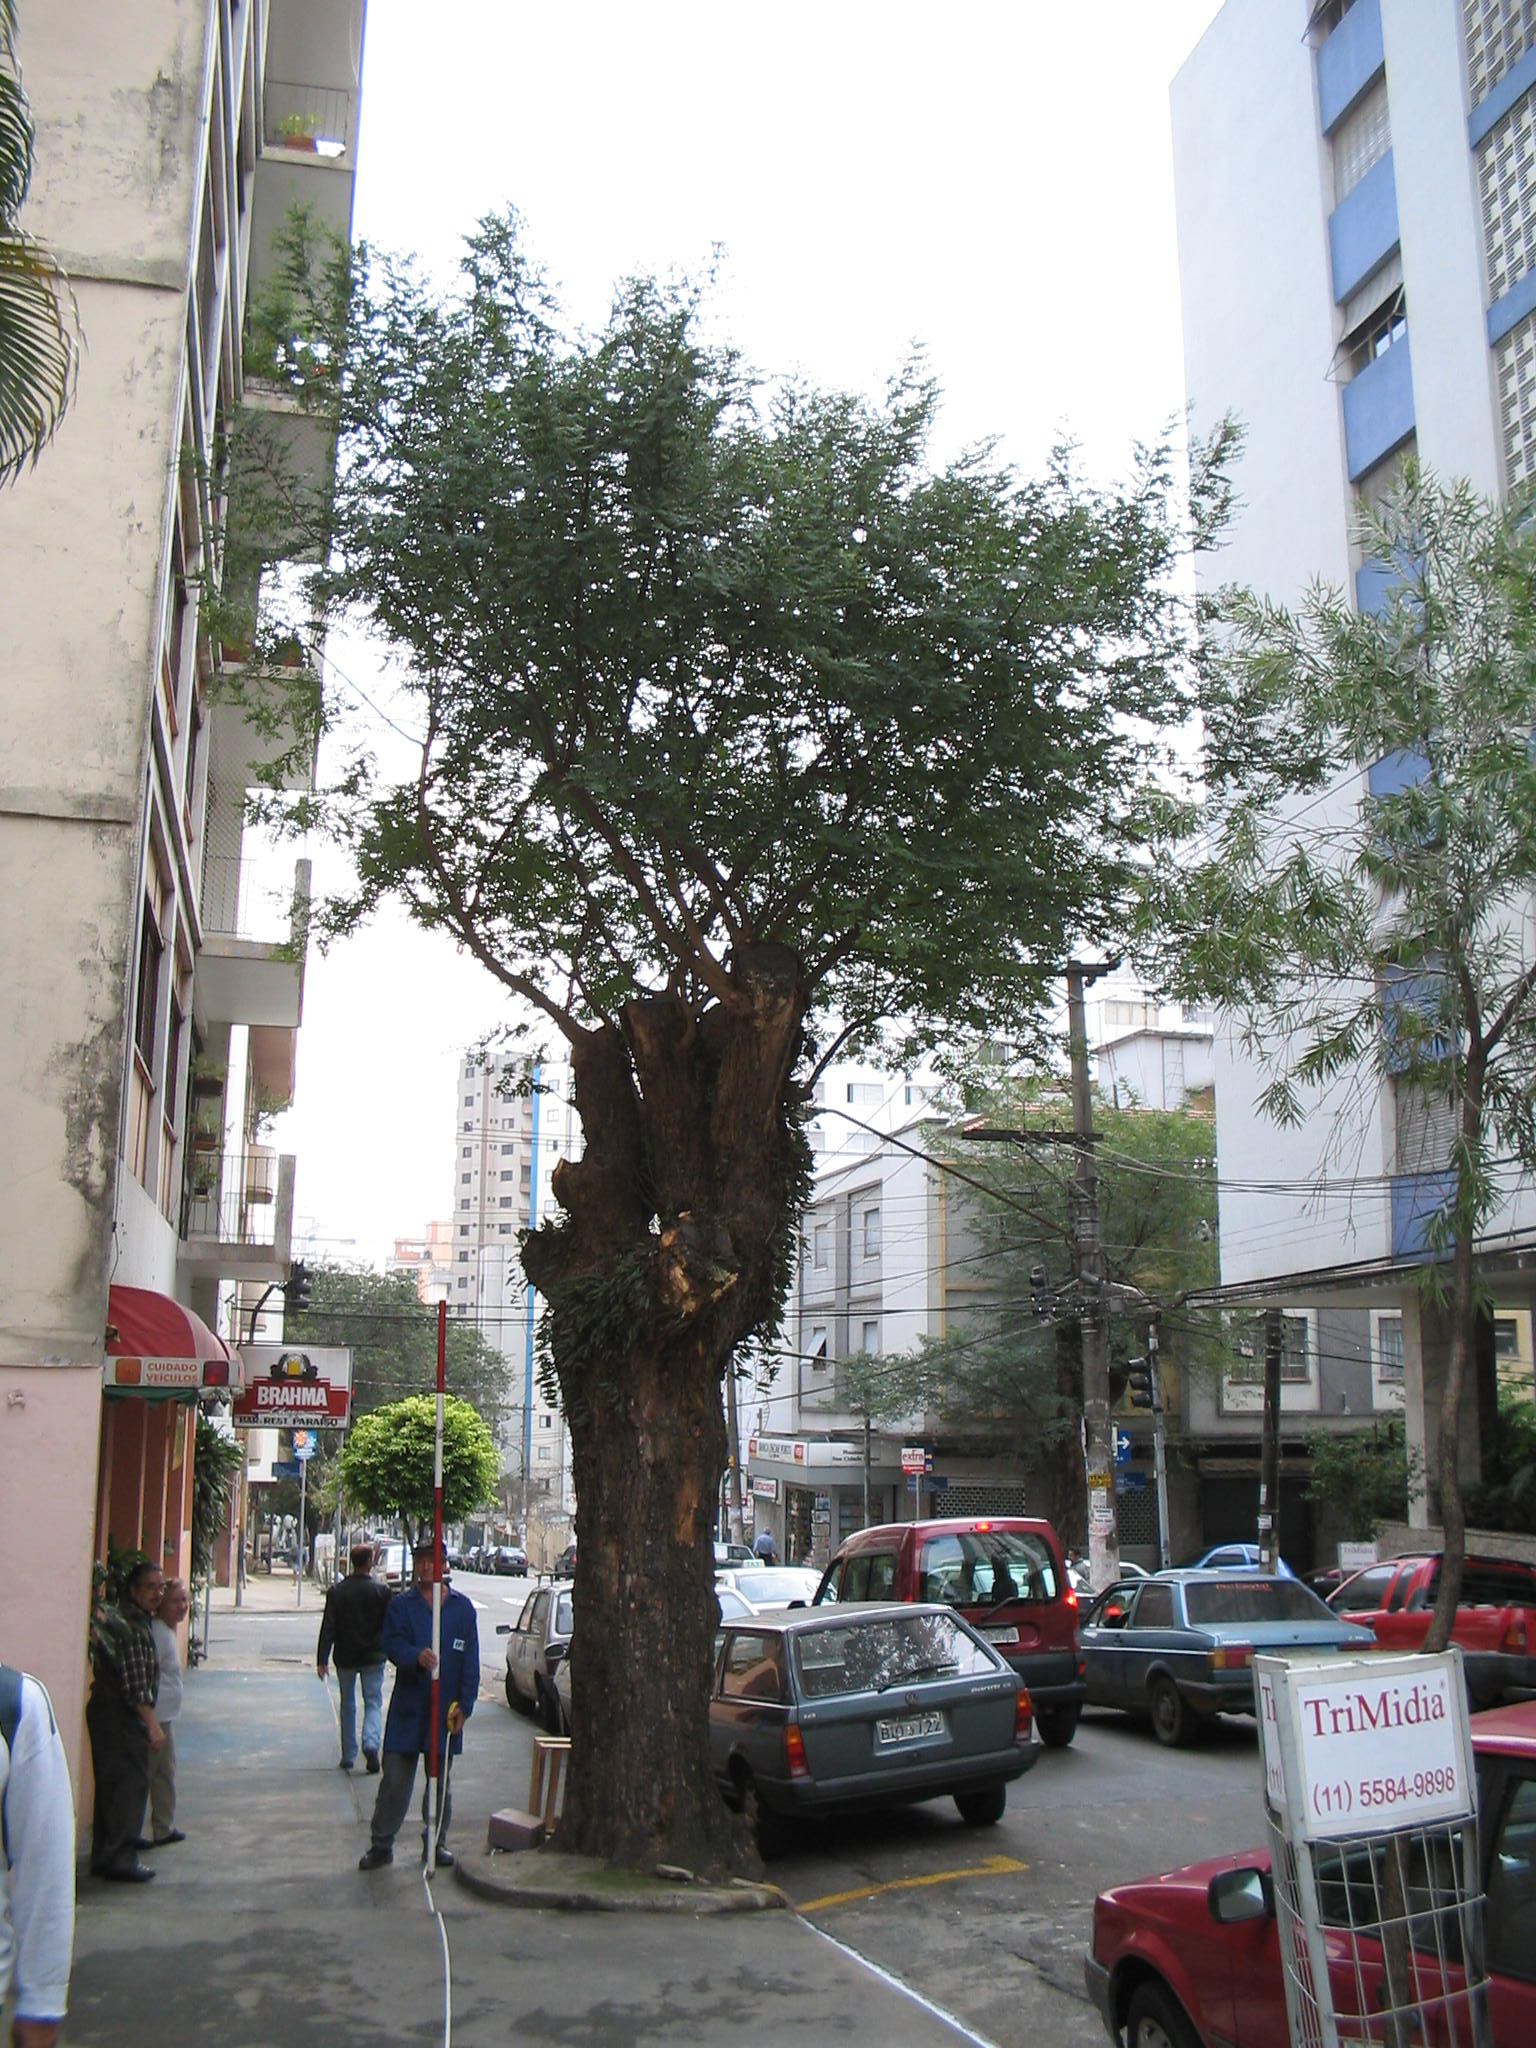crown: (207, 221, 1220, 1150)
stem: (515, 1290, 800, 1875)
stick: (402, 1295, 482, 1875)
tree: (194, 216, 1229, 1890)
